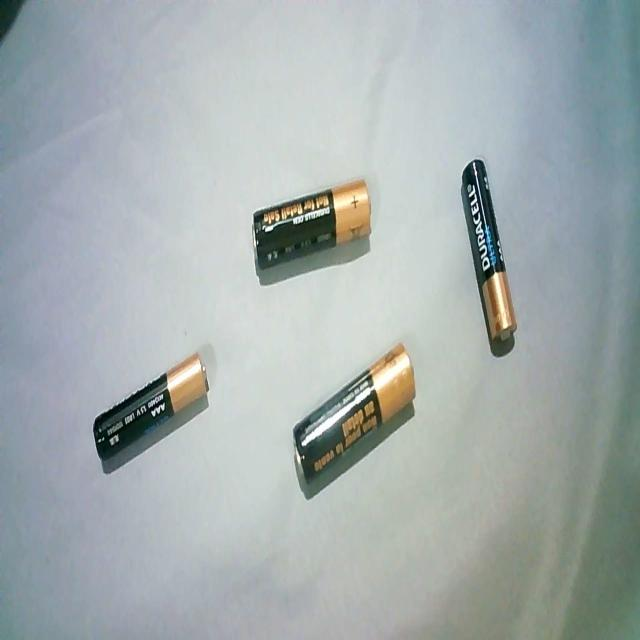AA: (289, 331, 421, 512), (244, 169, 378, 286)
AAA: (89, 347, 213, 480), (460, 148, 522, 360)
